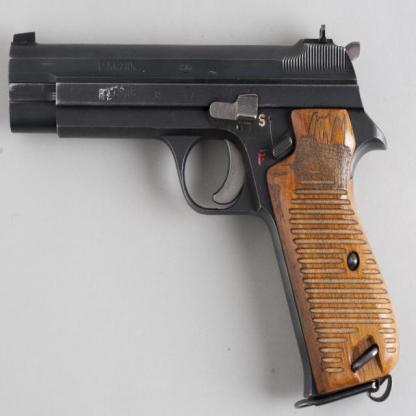weapon: (7, 23, 401, 411)
